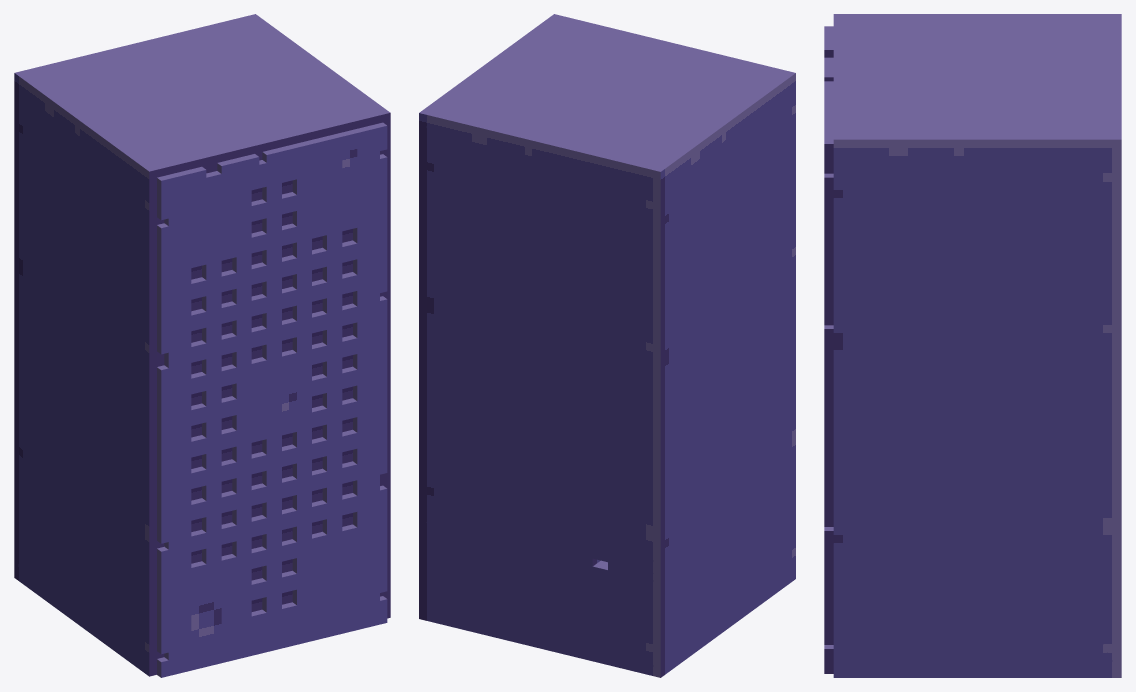
File: 64_bit_doorao.fezao.glb
3 views of the same model, side by side, from view 1: azimuth 30°, elevation 25°; view 2: azimuth 150°, elevation 25°; view 3: azimuth 270°, elevation 25° (orthographic). The views are drawn at different scales.
Parts seen in each view (by area): view 1: 64_BIT_DOORAO; view 2: 64_BIT_DOORAO; view 3: 64_BIT_DOORAO.
Part boxes in pixels (x1,y1,x2,y2): 64_BIT_DOORAO: (14,14,390,677); 64_BIT_DOORAO: (419,14,795,677); 64_BIT_DOORAO: (824,14,1121,677).
Size of the model in its own units: 2 by 4 by 2.
Materials: 1 (1 with a texture image).
